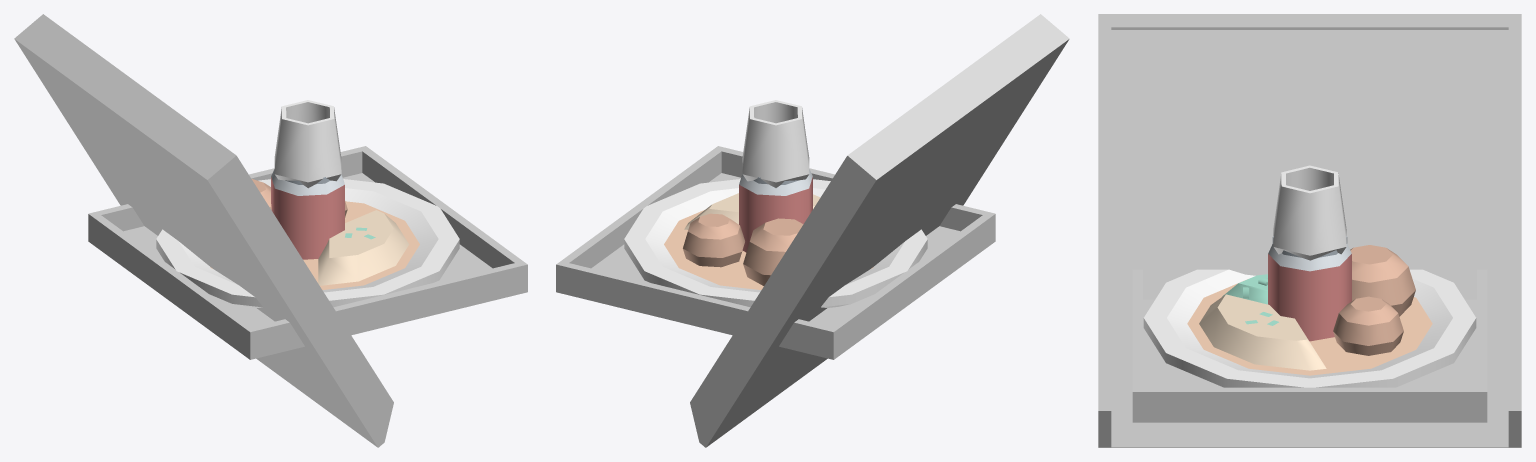
The model's file is ModelitosExp.fbx.
3 renders of one model, left to right at view 1: azimuth 30°, elevation 25°; view 2: azimuth 150°, elevation 25°; view 3: azimuth 270°, elevation 25°, orthographic. The views are drawn at different scales.
Visible parts, largest first — view 1: lid, pizzaBox, plateDinner, glassWine, sodaCan; view 2: lid, pizzaBox, plateDinner, glassWine, sodaCan; view 3: lid, plateDinner, pizzaBox, sodaCan, glassWine.
Part boxes in pixels (x1,y1,x2,y2): lid: [14, 14, 393, 447]; pizzaBox: [88, 146, 527, 359]; plateDinner: [156, 178, 459, 307]; glassWine: [274, 100, 341, 188]; sodaCan: [271, 169, 344, 259]; lid: [690, 14, 1069, 447]; pizzaBox: [556, 146, 995, 359]; plateDinner: [624, 179, 927, 307]; glassWine: [742, 100, 809, 187]; sodaCan: [739, 169, 812, 252]; lid: [1098, 14, 1521, 447]; plateDinner: [1143, 245, 1476, 387]; pizzaBox: [1132, 269, 1487, 422]; sodaCan: [1268, 236, 1351, 341]; glassWine: [1273, 165, 1346, 260].
Size of the model in its own units: 114 by 106 by 114.
